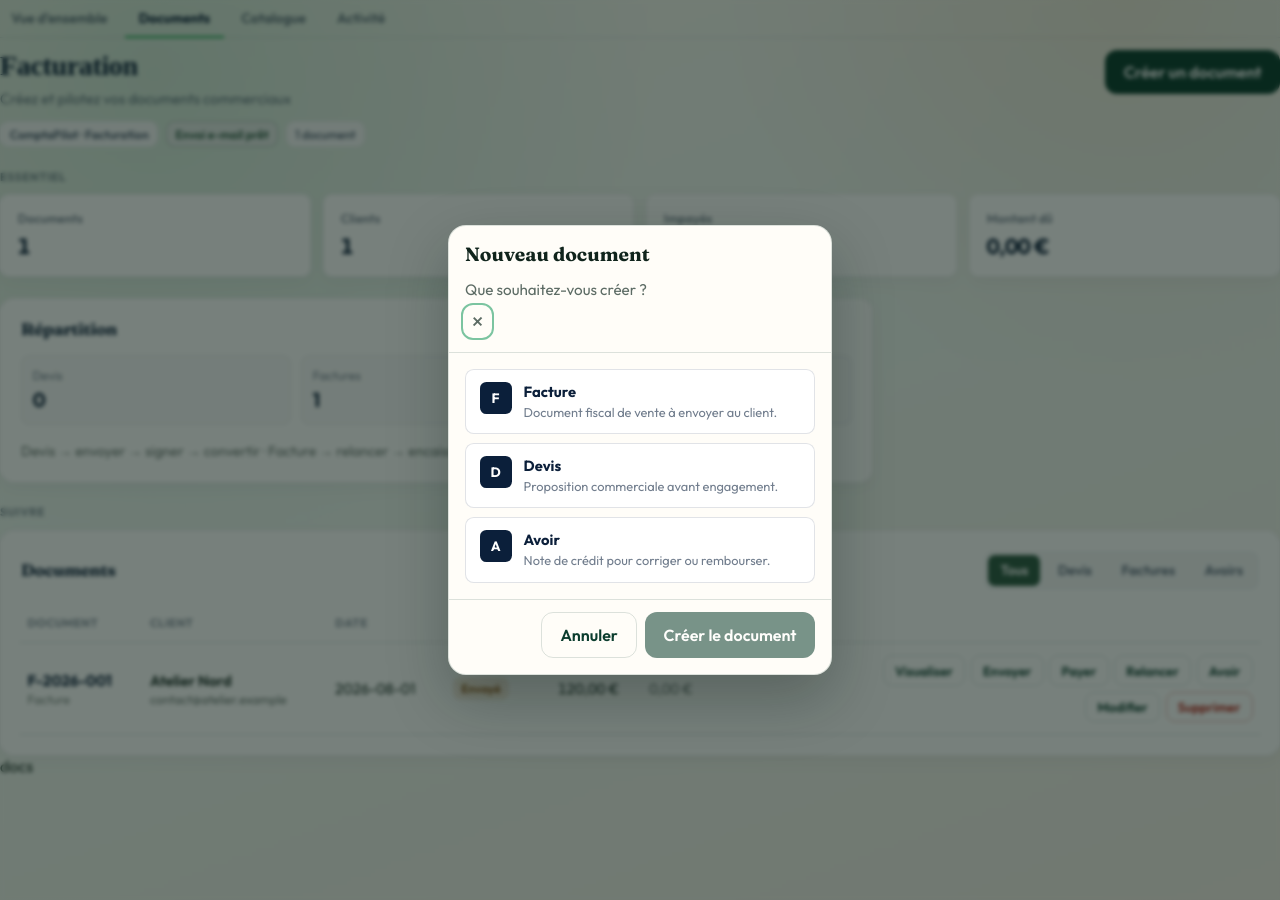
Test: MM11–MM20 Transition type → composer (anti route_change) › MM12 — Créer le document désactivé sans type
This screenshot has width=1280, height=900.
Expected: the heading "Nouveau document" is shown, [465, 242, 682, 266]
Expected: the button "Créer le document" is disabled, [645, 612, 815, 658]
What coordinates should you click on to do the following:
click the radio button labelled "F Facture Document fiscal de vente à envoyer au client."
I would click on:
 (640, 401)
Its box is [465, 369, 815, 434].
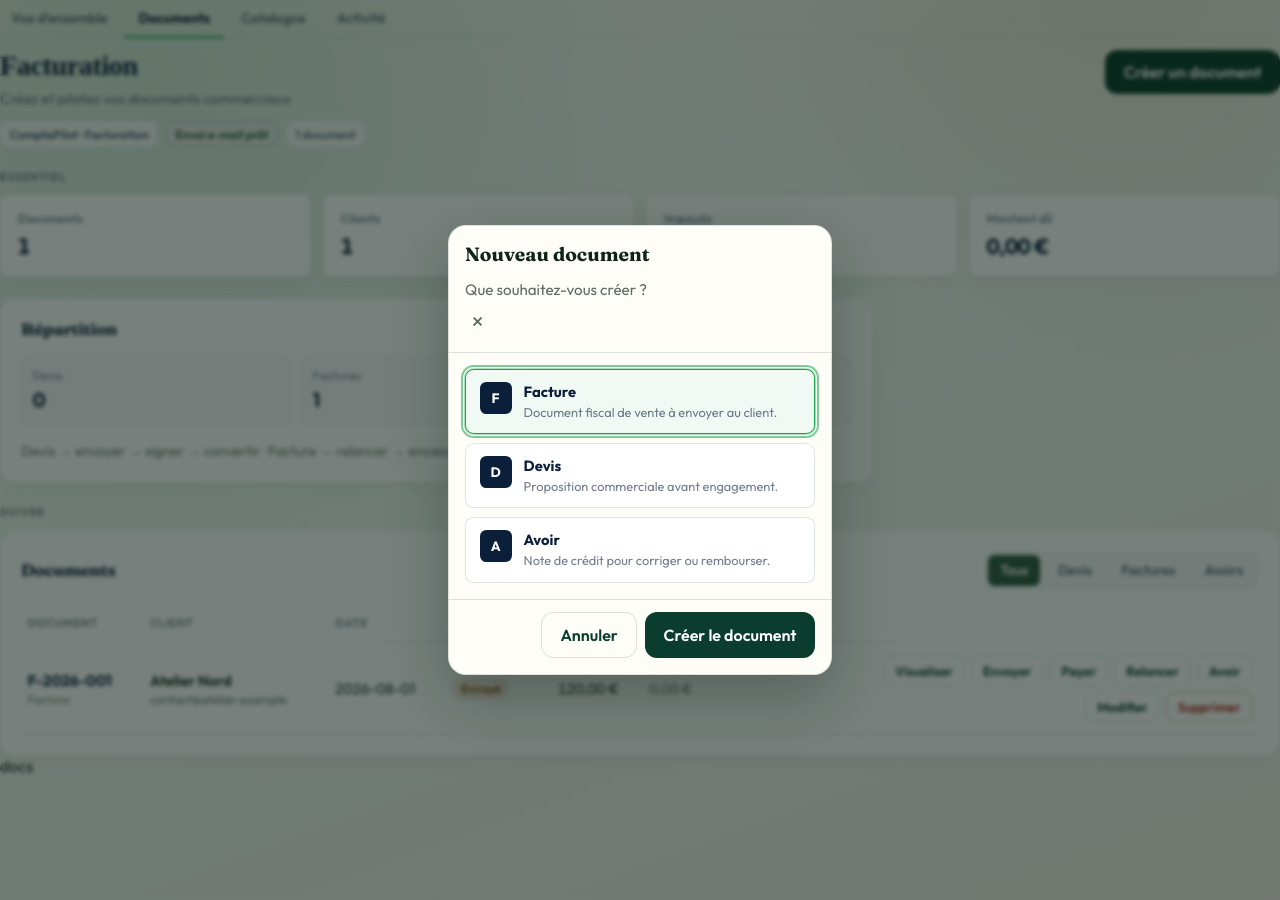
Expected: the button "Créer le document" is enabled, [645, 612, 815, 658]
